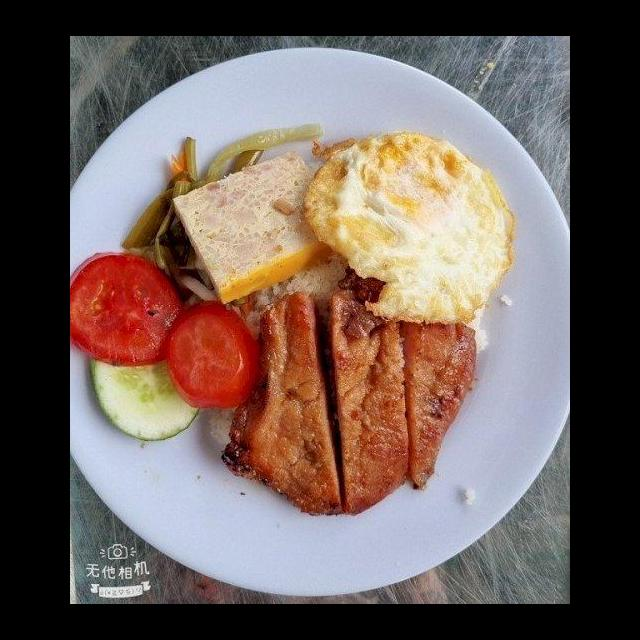com: (236, 244, 362, 345)
dua chua: (116, 130, 270, 311)
suon: (217, 259, 480, 520)
trung: (298, 129, 520, 328), (168, 146, 354, 309)
